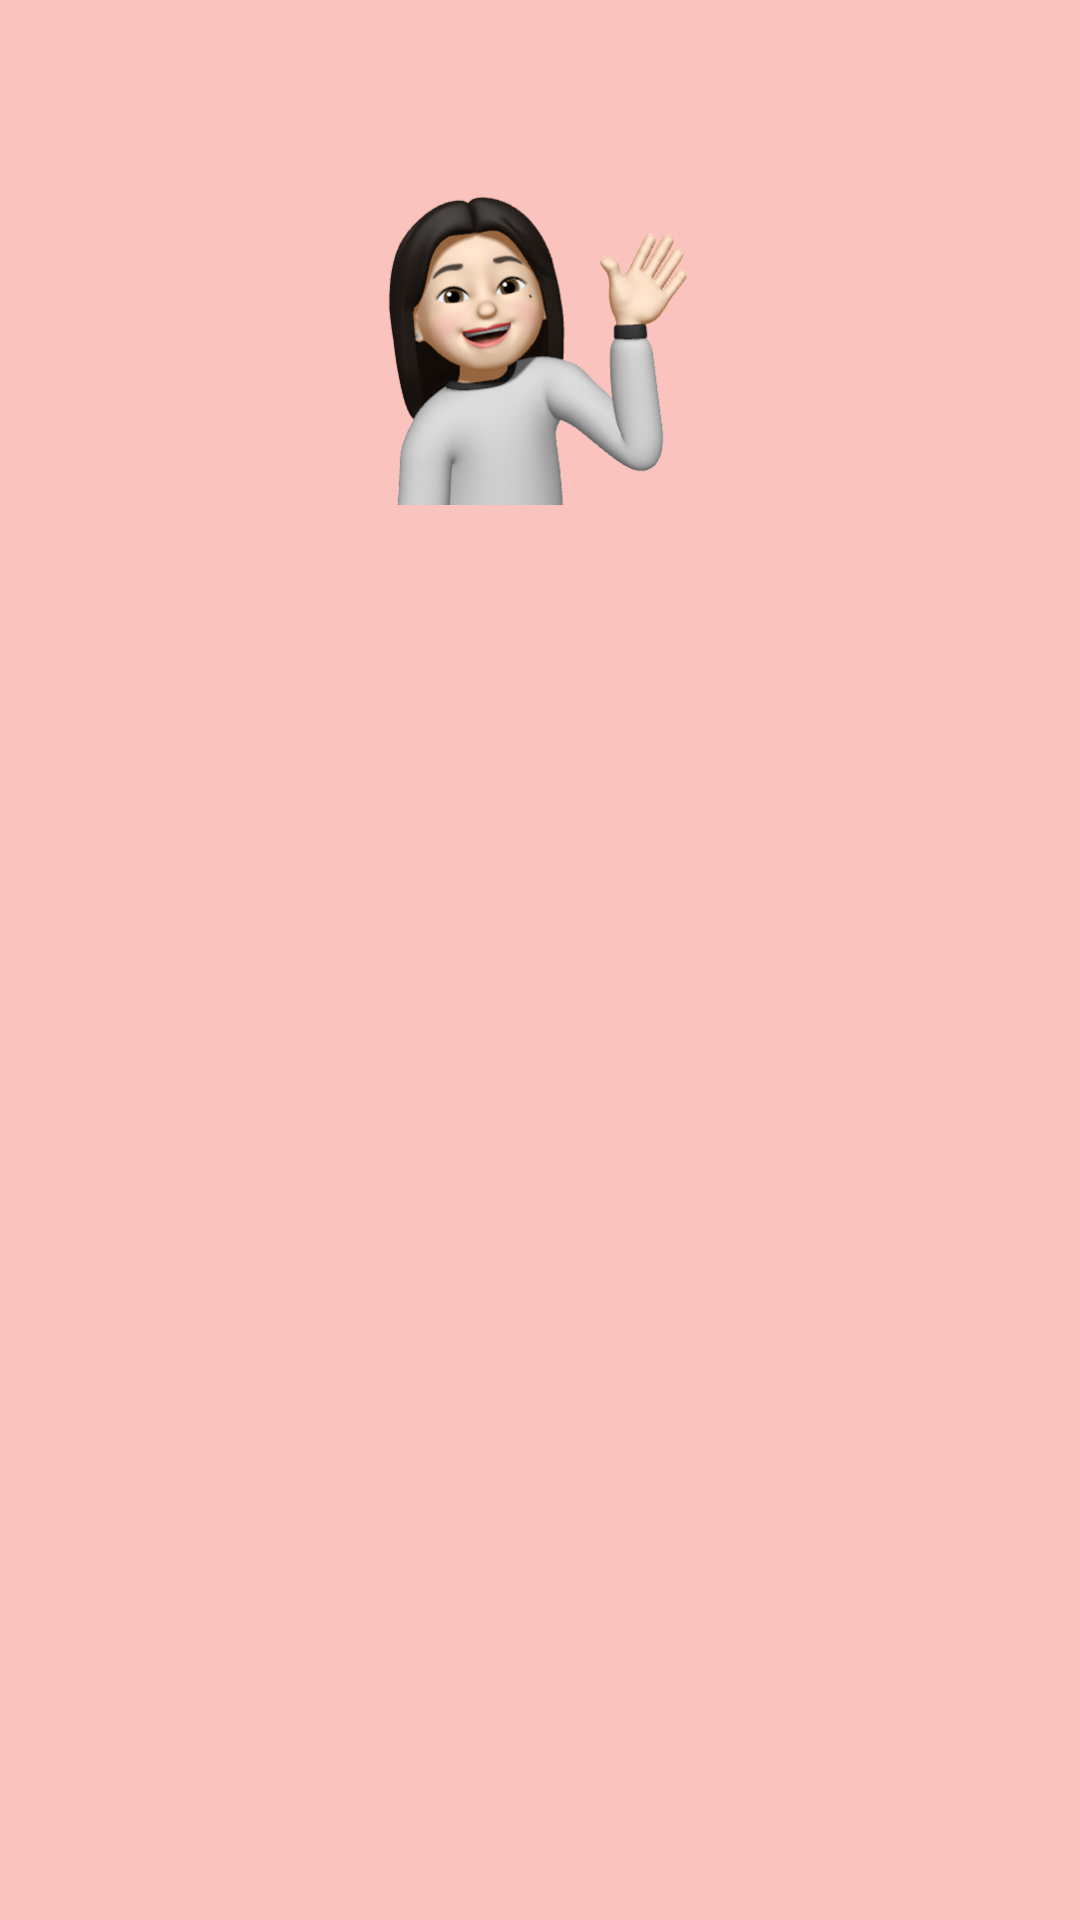

Screen size 1080px x 1920px. Icon name, then its box in pixels as (x1, y1, x2, y2):
profile: (389, 197, 687, 505)
